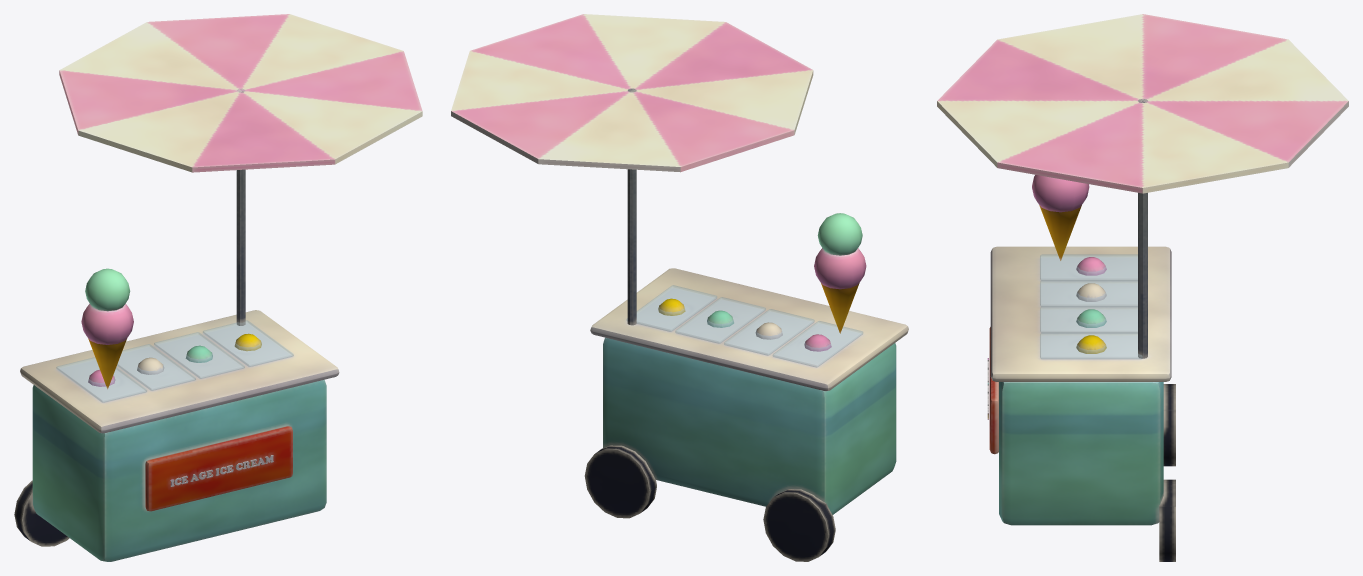
The model's file is ice_cream_stand.glb.
3 renders of one model, left to right at view 1: azimuth 30°, elevation 25°; view 2: azimuth 150°, elevation 25°; view 3: azimuth 270°, elevation 25°, orthographic. The views are drawn at different scales.
Visible parts, largest first — view 1: SM_IceCreamStand; view 2: SM_IceCreamStand; view 3: SM_IceCreamStand.
Part boxes in pixels (bbox=[...]): SM_IceCreamStand: bbox=[14, 14, 422, 561]; SM_IceCreamStand: bbox=[451, 14, 908, 561]; SM_IceCreamStand: bbox=[937, 14, 1348, 561].
Size of what is drawn, in the model's own units: 2.3 by 2.45 by 2.
2 materials, 1 textured.
